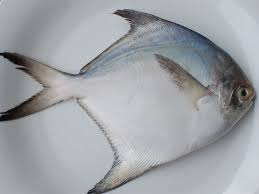Ikan Bawal: (9, 9, 259, 190)
